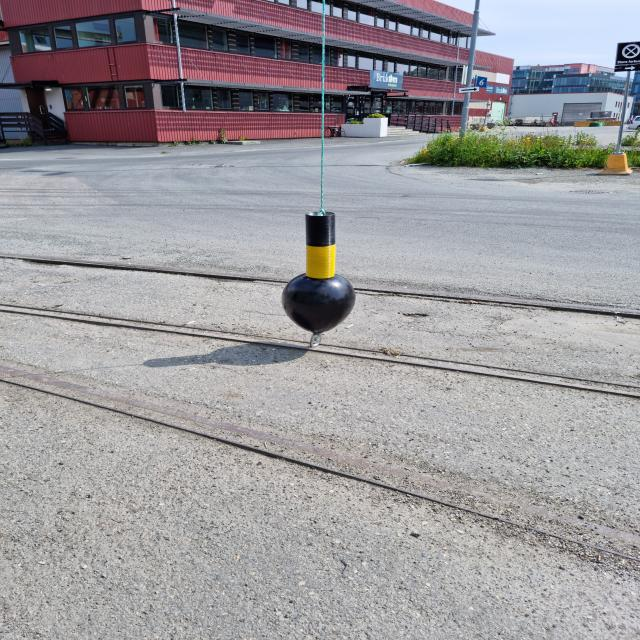east: (281, 212, 356, 334)
